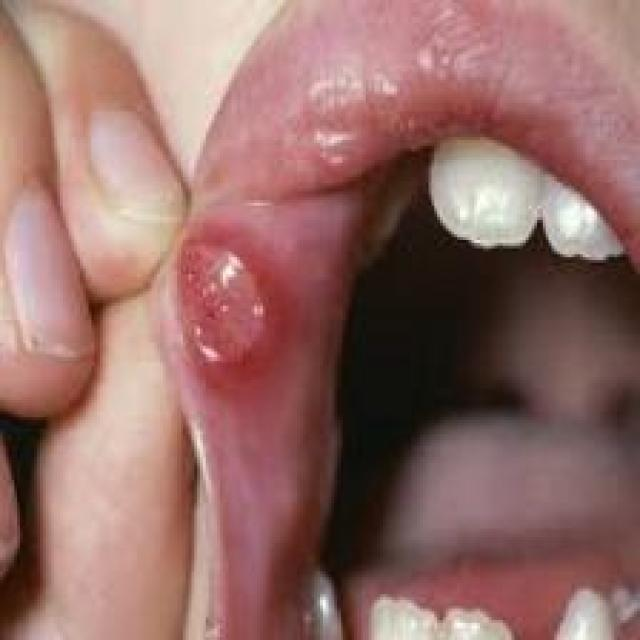processing_area: (152, 0, 637, 635)
ulcer-detection: (164, 212, 291, 398)
